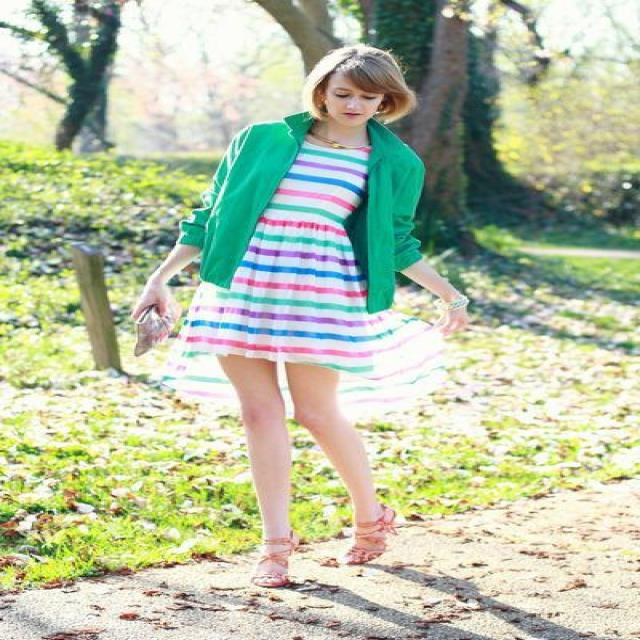bag: (115, 298, 163, 344)
dress: (158, 142, 468, 424)
jacket: (173, 115, 424, 313)
shoe: (259, 516, 402, 575)
